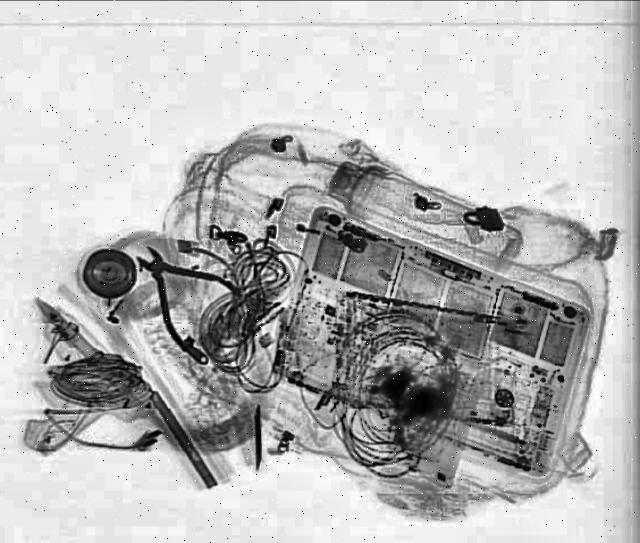Pliers: (102, 229, 258, 351)
